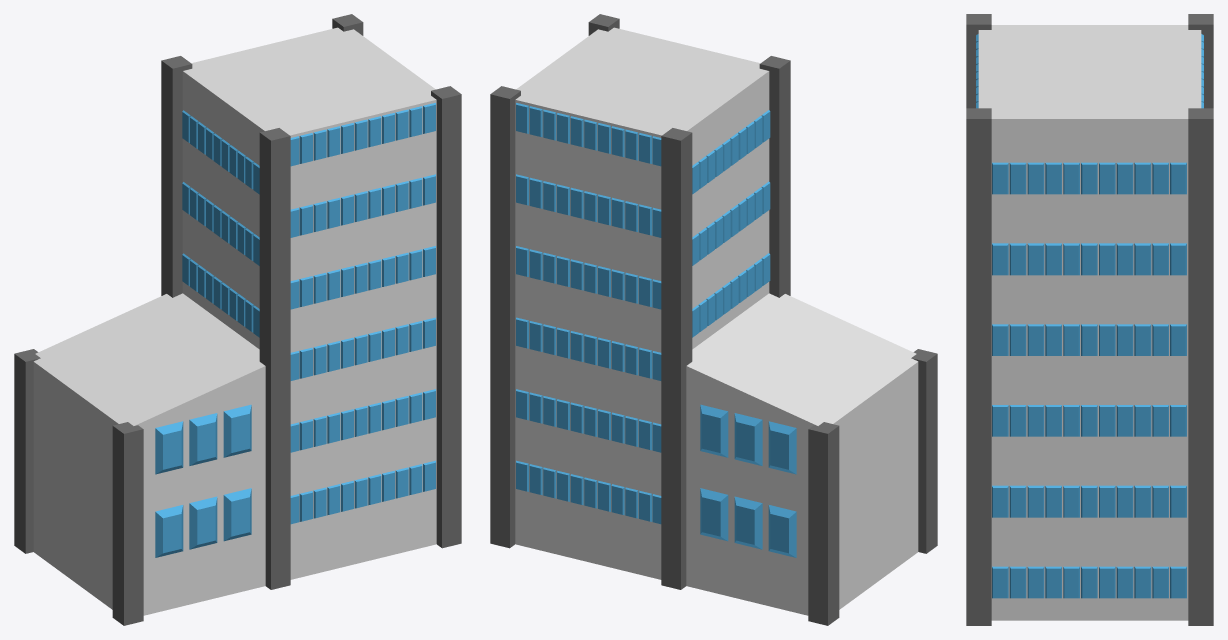
The model's file is building_2.fbx.
The picture shows the model from 3 angles, left to right: view 1: azimuth 30°, elevation 25°; view 2: azimuth 150°, elevation 25°; view 3: azimuth 270°, elevation 25°; orthographic projection. The views are drawn at different scales.
Visible parts, largest first — view 1: Cube; view 2: Cube; view 3: Cube.
Boxes of the visible parts, bbox=[...] form: Cube: bbox=[14, 14, 461, 625]; Cube: bbox=[490, 14, 937, 625]; Cube: bbox=[966, 14, 1213, 625].
Size of the model in its own units: 2962 by 3766 by 1666.
